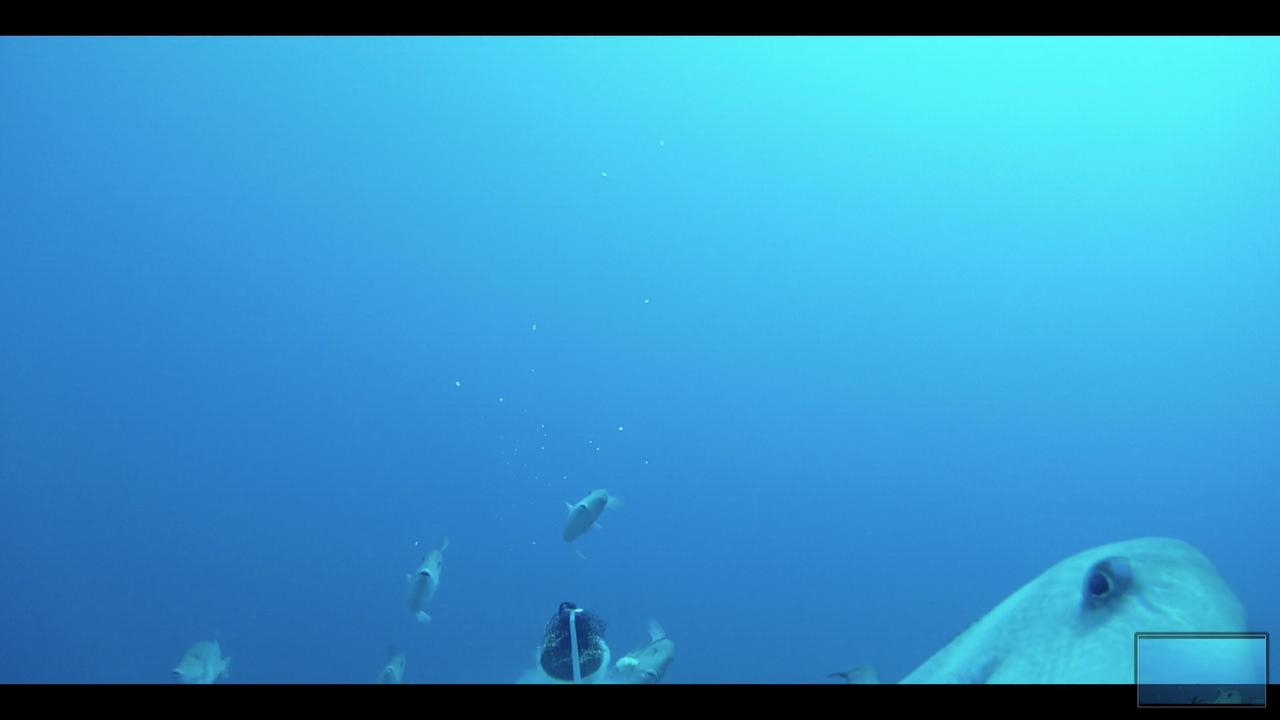balistes: (840, 535, 1252, 676), (543, 477, 623, 562), (386, 527, 450, 631), (613, 617, 694, 683), (158, 632, 242, 678)
